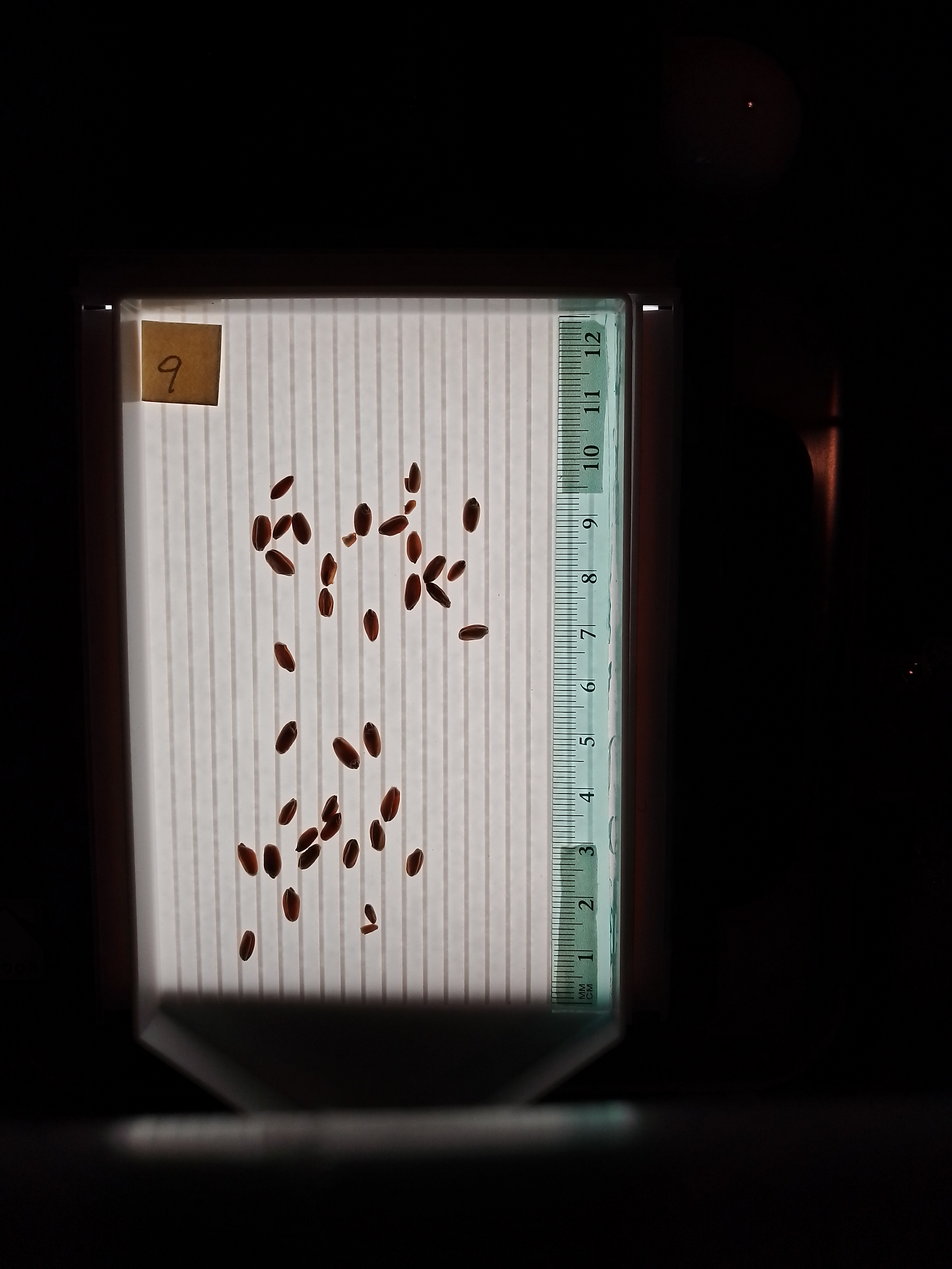seed mask: (334, 737, 359, 769), (266, 550, 294, 575), (275, 722, 297, 753), (321, 810, 342, 841), (462, 497, 480, 533), (252, 516, 271, 550), (363, 723, 382, 757), (381, 789, 400, 822), (238, 844, 258, 875), (404, 575, 421, 610), (274, 643, 295, 671), (354, 504, 372, 536), (293, 513, 311, 545), (270, 476, 294, 500), (427, 582, 450, 607), (297, 827, 318, 854), (264, 845, 281, 878), (283, 889, 300, 922), (380, 516, 408, 536), (424, 556, 446, 581), (298, 845, 320, 869), (369, 820, 386, 851), (459, 624, 489, 641), (406, 533, 422, 563), (321, 555, 337, 585), (364, 610, 380, 640), (239, 931, 255, 961), (279, 799, 297, 825), (406, 850, 424, 876), (343, 840, 359, 868), (406, 464, 421, 493), (319, 589, 334, 617), (274, 515, 291, 539), (322, 796, 338, 821), (448, 560, 466, 581), (361, 919, 377, 935), (364, 904, 377, 922)
